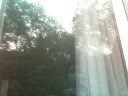window: (80, 78, 128, 96)
